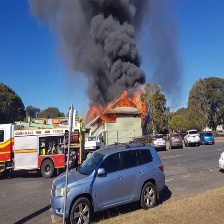fire: (87, 90, 148, 129)
smoke: (31, 1, 158, 93)
